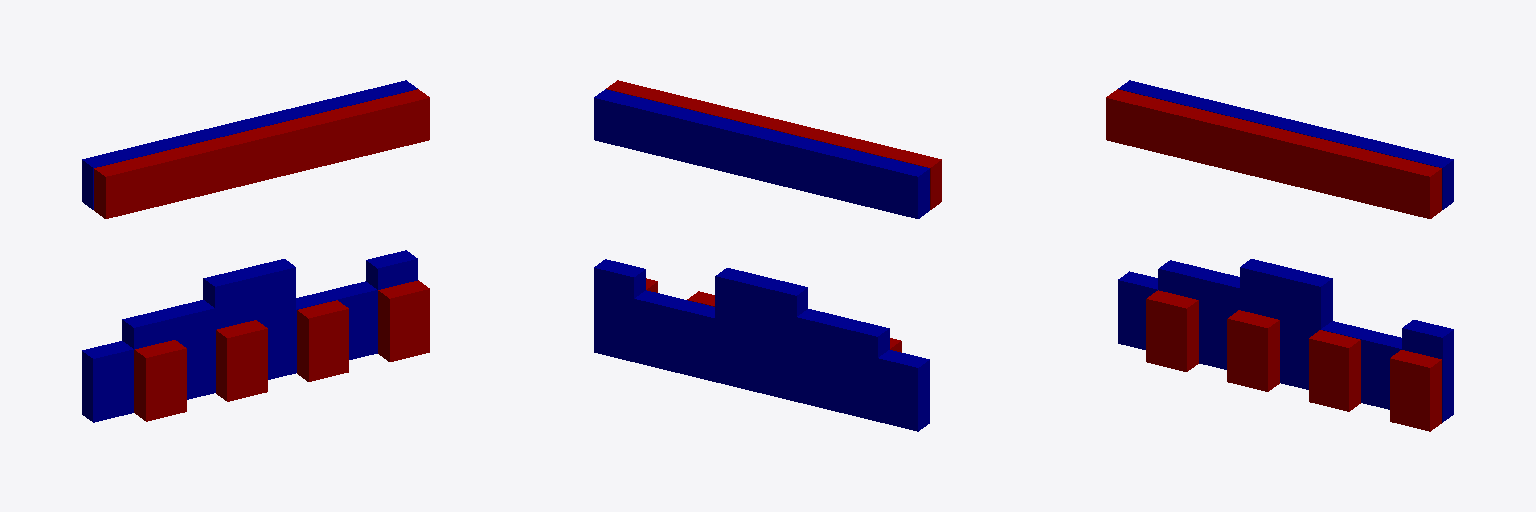
File: Colby7Edit.obj
3 views of the same model, side by side, from view 1: azimuth 30°, elevation 25°; view 2: azimuth 150°, elevation 25°; view 3: azimuth 330°, elevation 25° (orthographic).
Visible parts, largest first — view 1: Plane, Plane.001_Plane.002; view 2: Plane.001_Plane.002, Plane; view 3: Plane, Plane.001_Plane.002.
Part boxes in pixels (bbox=[...]): Plane: bbox=[94, 89, 429, 421]; Plane.001_Plane.002: bbox=[82, 80, 417, 422]; Plane.001_Plane.002: bbox=[594, 89, 929, 431]; Plane: bbox=[606, 80, 941, 352]; Plane: bbox=[1106, 89, 1441, 431]; Plane.001_Plane.002: bbox=[1118, 80, 1453, 422].
Bounding box in the file's own units: 16 × 12 × 2.04.